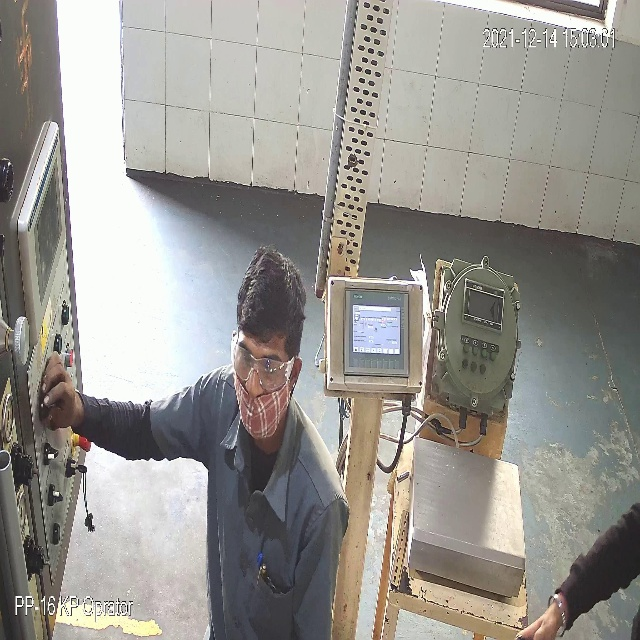Gafas: (232, 343, 297, 390)
